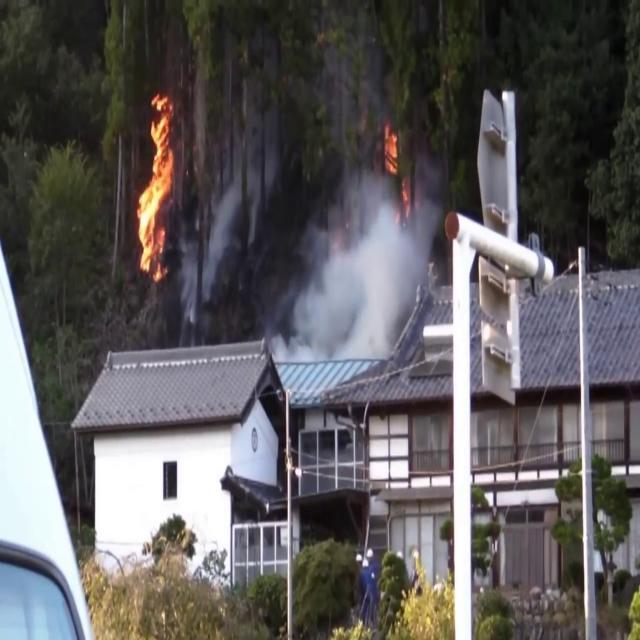Fire: (132, 86, 180, 282), (380, 116, 404, 182)
Smoke: (280, 101, 446, 369), (176, 148, 248, 324)
